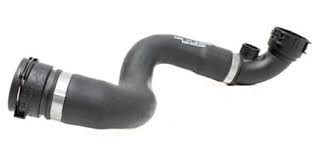radiator_hose: (14, 28, 310, 129)
